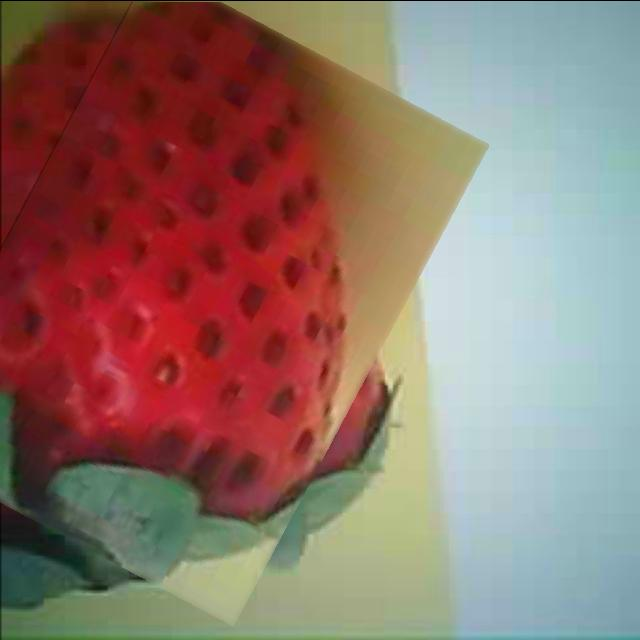strawberry: (0, 0, 436, 597)
